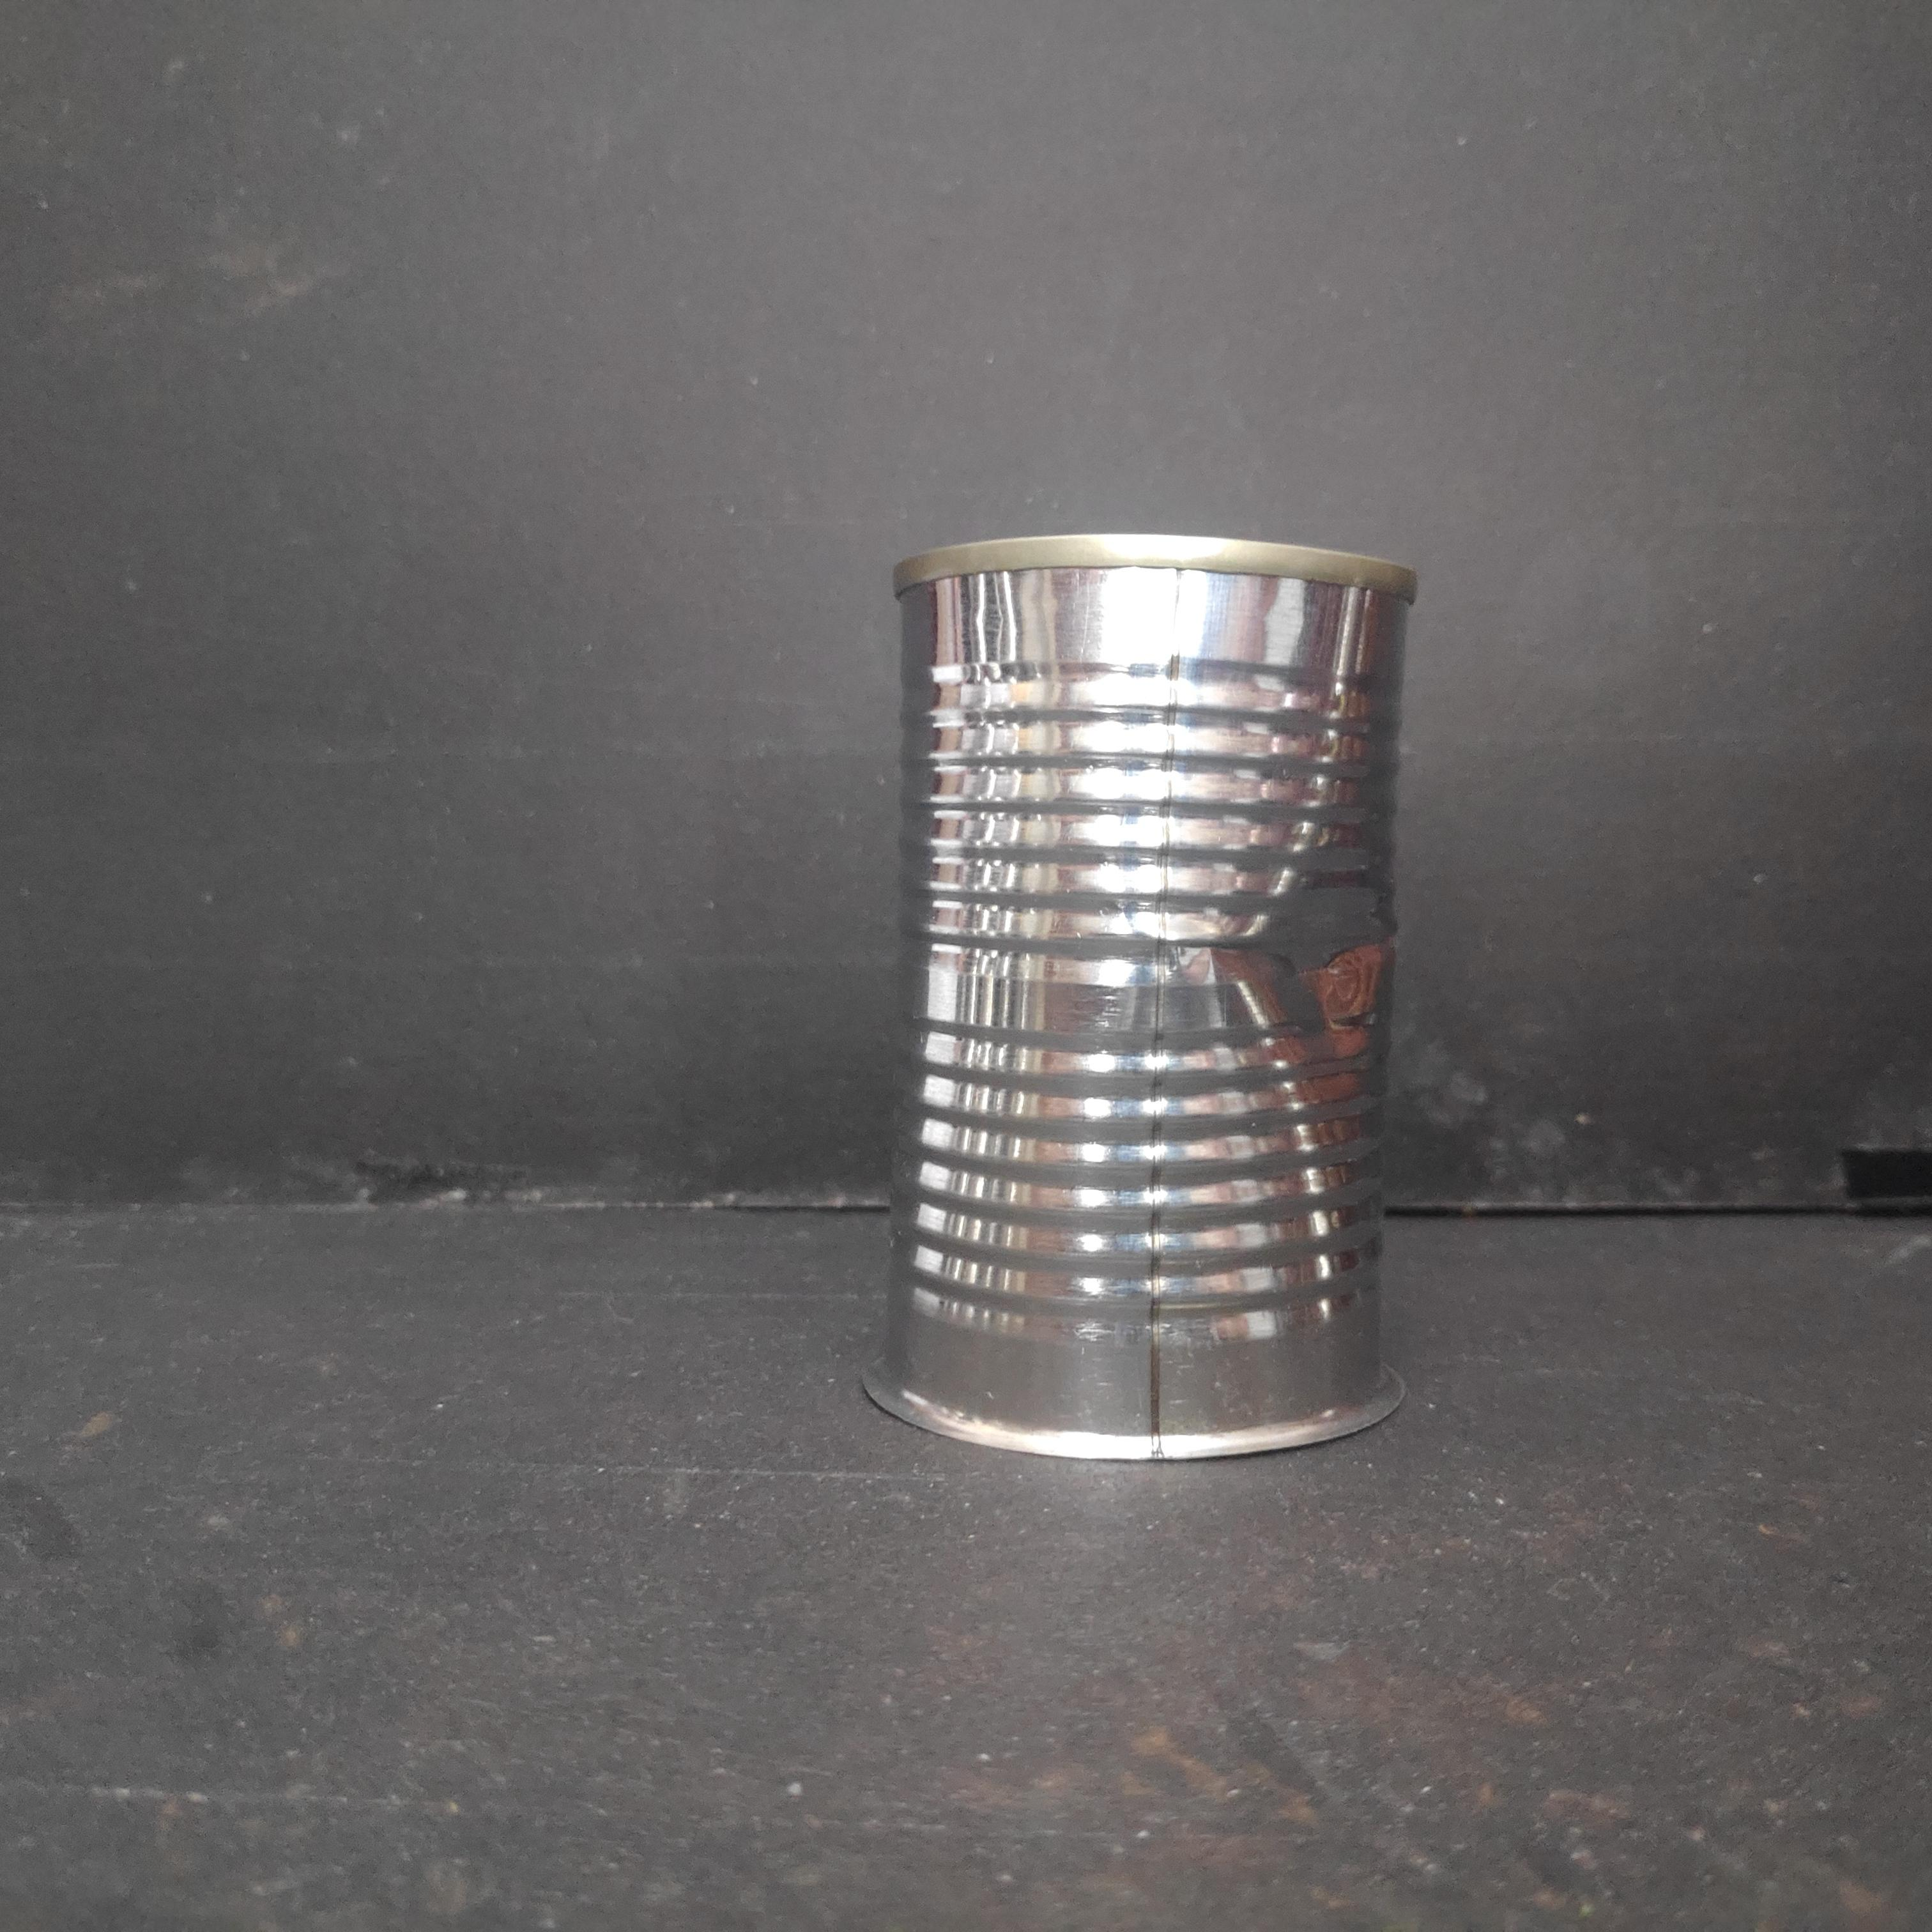Minor Defect: (855, 522, 1417, 1483)
